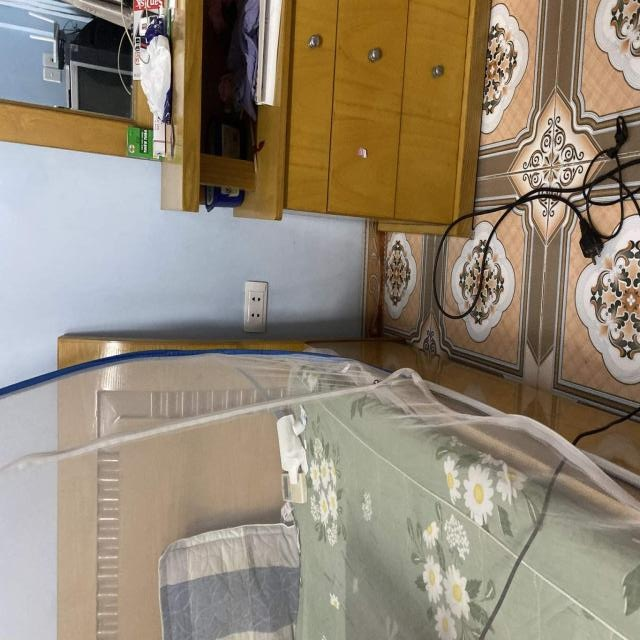outlet: (243, 281, 268, 333)
